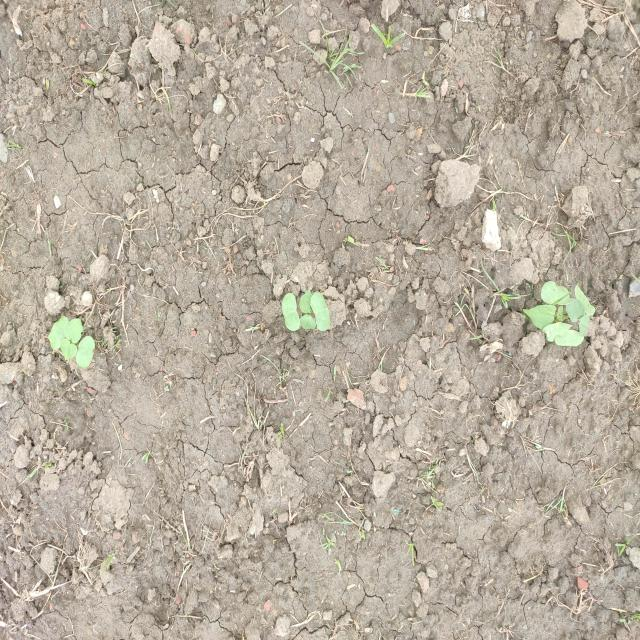seedling_s4: (523, 304, 556, 329), (310, 292, 330, 331), (48, 316, 69, 350), (541, 281, 570, 305), (282, 293, 300, 331), (542, 322, 573, 342), (575, 284, 595, 315), (76, 336, 95, 368), (554, 330, 584, 346), (565, 298, 585, 322), (65, 318, 83, 343), (60, 338, 77, 360), (299, 288, 313, 314), (578, 315, 590, 337), (299, 314, 316, 329)
